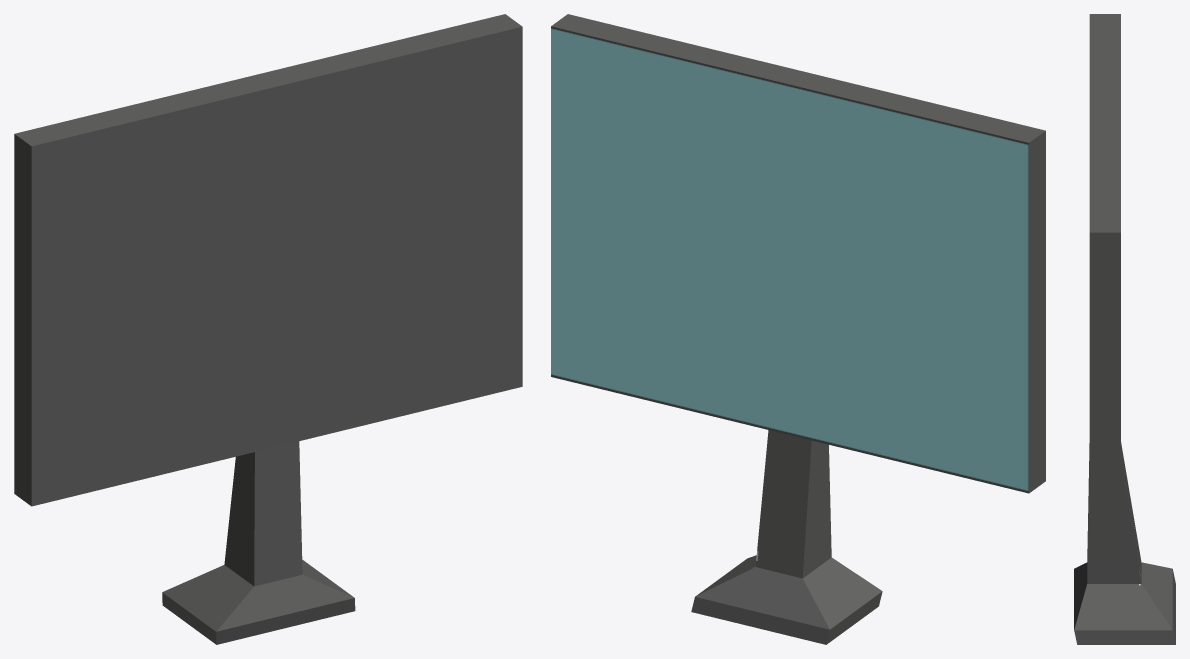
The model's file is moniter.fbx.
The picture shows the model from 3 angles, left to right: view 1: azimuth 30°, elevation 25°; view 2: azimuth 150°, elevation 25°; view 3: azimuth 270°, elevation 25°; orthographic projection. The views are drawn at different scales.
Visible parts, largest first — view 1: Cube; view 2: Cube; view 3: Cube.
Part boxes in pixels (<box>): Cube: <box>14,14,522,644</box>; Cube: <box>551,14,1045,644</box>; Cube: <box>1074,14,1175,644</box>.
Size of the model in its own units: 0.5563 by 0.5815 by 0.1094.
1 material, 1 textured.
